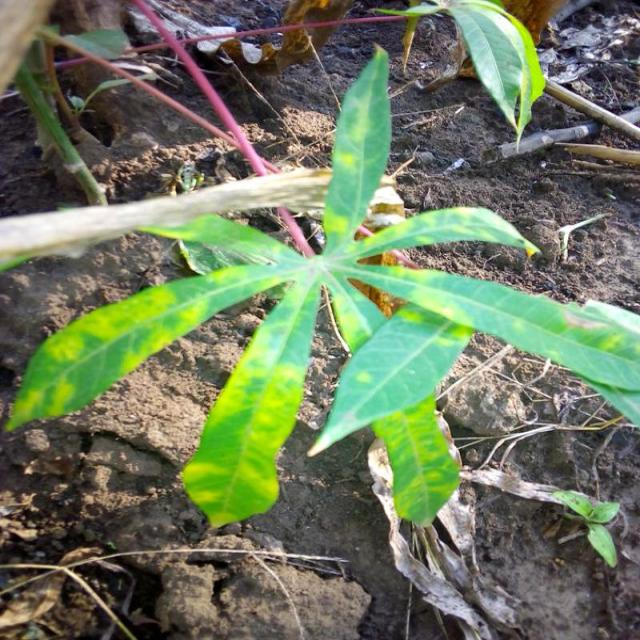cassava leaf: (5, 42, 639, 531), (182, 262, 322, 529)
